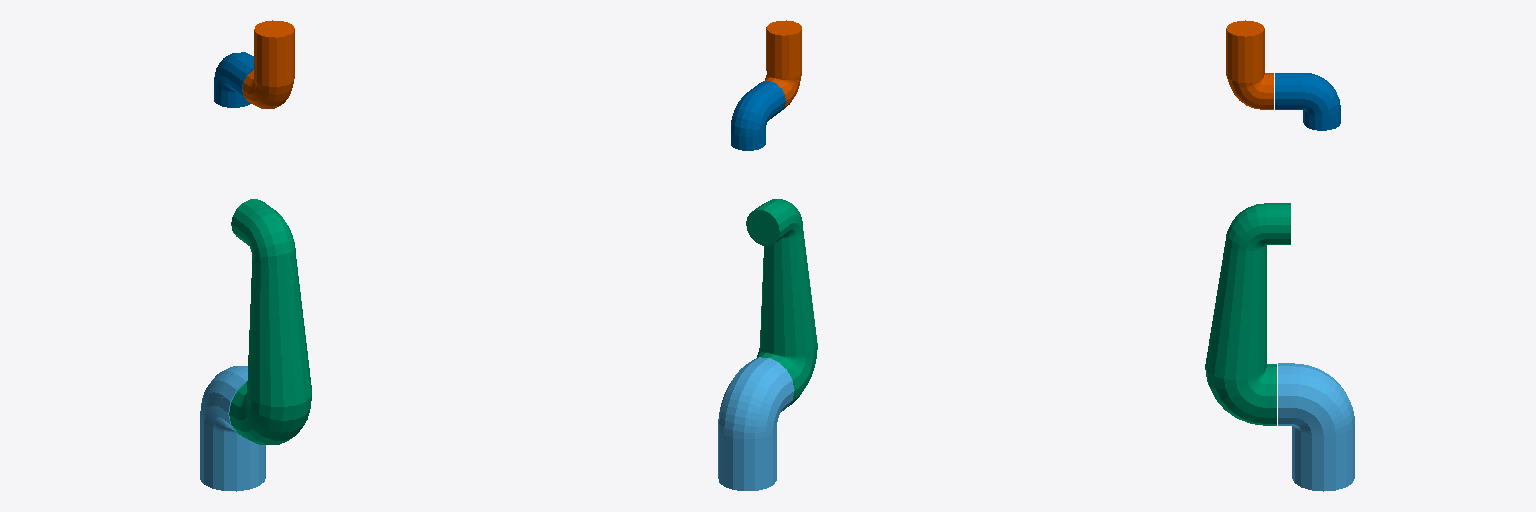
robot.urdf — indy7:
<?xml version="1.0" ?>
<!-- =================================================================================== -->
<!-- |    This document was autogenerated by xacro from indy7.xacro                    | -->
<!-- |    EDITING THIS FILE BY HAND IS NOT RECOMMENDED                                 | -->
<!-- =================================================================================== -->
<robot name="indy7" xmlns:xacro="http://ros.org/wiki/xacro">
  <!-- <material name="grey"> <color rgba="0.5 0.5 0.5 1"/> </material> -->
  <link name="base_link">
    <visual>
      <origin rpy="0 0 0" xyz="0 0 0"/>
      <geometry>
        <mesh filename="meshes/visual/Indy7_0.stl"/>
      </geometry>
      <material name="metal_grey"/>
    </visual>
    <collision>
      <origin rpy="0 0 0" xyz="0 0 0"/>
      <geometry>
        <cylinder length="0.075" radius="0.102"/>
      </geometry>
    </collision>
    <inertial>
      <origin rpy="0 0 0" xyz="0 0 0"/>
      <mass value="1.59306955"/>
      <inertia ixx="+0.00572623" ixy="+0.00000251" ixz="-0.00011380" iyy="+0.00558959" iyz="-0.00000014" izz="+0.00966674"/>
    </inertial>
  </link>
  <link name="shoulder_link">
    <visual>
      <origin rpy="0 0 0" xyz="0 0 0"/>
      <geometry>
        <mesh filename="meshes/visual/Indy7_1.stl"/>
      </geometry>
      <material name="metal_grey"/>
    </visual>
    <collision>
      <origin rpy="0 0 0" xyz="0 0 0.111"/>
      <geometry>
        <cylinder length="0.222" radius="0.075"/>
      </geometry>
    </collision>
    <collision>
      <origin rpy="1.57079632679 0 0" xyz="0 -0.0545 0.222"/>
      <geometry>
        <cylinder length="0.109" radius="0.075"/>
      </geometry>
    </collision>
    <inertial>
      <origin rpy="0 0 0" xyz="0 0 0"/>
      <mass value="11.8030102"/>
      <inertia ixx="+0.15418559" ixy="-0.00000235" ixz="+0.00001739" iyy="+0.12937017" iyz="-0.04854267" izz="+0.05964415"/>
    </inertial>
  </link>
  <link name="upper_arm_link">
    <visual>
      <origin rpy="0 0 0" xyz="0 0 0"/>
      <geometry>
        <mesh filename="meshes/visual/Indy7_2.stl"/>
      </geometry>
      <material name="metal_grey"/>
    </visual>
    <collision>
      <origin rpy="1.57079632679 0 -1.57079632679" xyz="-0.225 0 0.09"/>
      <geometry>
        <cylinder length="0.450" radius="0.063"/>
      </geometry>
    </collision>
    <collision>
      <origin rpy="0 0 0" xyz="0 0 0.045"/>
      <geometry>
        <cylinder length="0.09" radius="0.075"/>
      </geometry>
    </collision>
    <collision>
      <origin rpy="0 0 0" xyz="-0.45 0 0.02975 "/>
      <geometry>
        <cylinder length="0.1205" radius="0.045"/>
      </geometry>
    </collision>
    <inertial>
      <origin rpy="0 0 0" xyz="0 0 0"/>
      <mass value="7.99292141"/>
      <inertia ixx="+0.29356980" ixy="-0.00000040" ixz="+0.00001441" iyy="+0.28094142" iyz="+0.03727972" izz="+0.03620609"/>
    </inertial>
  </link>
  <link name="forearm_link">
    <visual>
      <origin rpy="0 0 0" xyz="0 0 0"/>
      <geometry>
        <mesh filename="meshes/visual/Indy7_3.stl"/>
      </geometry>
      <material name="metal_grey"/>
    </visual>
    <collision>
      <origin rpy="1.57079632679 0 -1.57079632679" xyz="-0.1335 0 -0.075"/>
      <geometry>
        <cylinder length="0.267" radius="0.045"/>
      </geometry>
    </collision>
    <collision>
      <origin rpy="0 0 0" xyz="0 0 -0.0375"/>
      <geometry>
        <cylinder length="0.075" radius="0.045"/>
      </geometry>
    </collision>
    <inertial>
      <origin rpy="0 0 0" xyz="0 0 0"/>
      <mass value="2.99134127"/>
      <inertia ixx="+0.03424593" ixy="+0.00000149" ixz="+0.00000724" iyy="+0.03406024" iyz="+0.00186009" izz="+0.00450477"/>
    </inertial>
  </link>
  <link name="wrist_1_link">
    <visual>
      <origin rpy="0 0 0" xyz="0 0 0"/>
      <geometry>
        <mesh filename="meshes/visual/Indy7_4.stl"/>
      </geometry>
      <material name="metal_grey"/>
    </visual>
    <collision>
      <origin rpy="1.57079632679 0 0" xyz="0 -0.057 0.083"/>
      <geometry>
        <cylinder length="0.114" radius="0.045"/>
      </geometry>
    </collision>
    <collision>
      <origin rpy="1.57079632679 0 0" xyz="0 -0.057 0.083"/>
      <geometry>
        <cylinder length="0.114" radius="0.045"/>
      </geometry>
    </collision>
    <collision>
      <origin rpy="0 0 0" xyz="0 0 0.0415"/>
      <geometry>
        <cylinder length="0.083" radius="0.045"/>
      </geometry>
    </collision>
    <inertial>
      <origin rpy="0 0 0" xyz="0 0 0"/>
      <mass value="2.12317035"/>
      <inertia ixx="+0.00670405" ixy="+0.00000375" ixz="+0.00000150" iyy="+0.00279246" iyz="-0.00127967" izz="+0.00619341"/>
    </inertial>
  </link>
  <link name="wrist_2_link">
    <visual>
      <origin rpy="0 0 0" xyz="0 0 0"/>
      <geometry>
        <mesh filename="meshes/visual/Indy7_5.stl"/>
      </geometry>
      <material name="metal_grey"/>
    </visual>
    <collision>
      <origin rpy="1.57079632679 0 -1.57079632679" xyz="-0.084 0 0.069"/>
      <geometry>
        <cylinder length="0.168" radius="0.045"/>
      </geometry>
    </collision>
    <collision>
      <origin rpy="0 0 0" xyz="-0 0 0.0345"/>
      <geometry>
        <cylinder length="0.069" radius="0.045"/>
      </geometry>
    </collision>
    <inertial>
      <origin rpy="0 0 0" xyz="0 0 0"/>
      <mass value="2.28865091"/>
      <inertia ixx="+0.00994891" ixy="+0.00000014" ixz="+0.00000321" iyy="+0.00978189" iyz="-0.00093546" izz="+0.00271492"/>
    </inertial>
  </link>
  <link name="wrist_3_link">
    <visual>
      <origin rpy="0 0 0" xyz="0 0 0"/>
      <geometry>
        <mesh filename="meshes/visual/Indy7_6.stl"/>
      </geometry>
      <material name="metal_grey"/>
    </visual>
    <collision>
      <origin rpy="0 0 0" xyz="0 0 0.03"/>
      <geometry>
        <cylinder length="0.06" radius="0.045"/>
      </geometry>
    </collision>
    <inertial>
      <origin rpy="0 0 0" xyz="0 0 0"/>
      <mass value="0.40083918"/>
      <inertia ixx="0.00043534" ixy="+0.00000013" ixz="-0.00000002" iyy="0.00044549" iyz="+0.00000051" izz="0.00059634"/>
    </inertial>
  </link>

  <joint name="joint0" type="revolute">
    <parent link="base_link"/>
    <child link="shoulder_link"/>
    <origin rpy="0 0 0" xyz="0 0 0.0775"/>
    <axis xyz="0 0 1"/>
    <limit effort="10" lower="-3.05432619099" upper="3.05432619099" velocity="1"/>
  </joint>
  <joint name="joint1" type="revolute">
    <parent link="shoulder_link"/>
    <child link="upper_arm_link"/>
    <origin rpy="1.57079632679 1.57079632679 0" xyz="0 -0.10900000 0.22200000"/>
    <axis xyz="0 0 1"/>
    <limit effort="10" lower="-3.05432619099" upper="3.05432619099" velocity="1"/>
  </joint>
  <joint name="joint2" type="revolute">
    <parent link="upper_arm_link"/>
    <child link="forearm_link"/>
    <origin rpy="0 0 0" xyz="-0.45000000 +0.00000000 -0.03050000"/>
    <axis xyz="0 0 1"/>
    <limit effort="10" lower="-3.05432619099" upper="3.05432619099" velocity="1"/>
  </joint>
  <joint name="joint3" type="revolute">
    <parent link="forearm_link"/>
    <child link="wrist_1_link"/>
    <origin rpy="-1.57079632679 0 1.57079632679" xyz="-0.26700000 +0.00000000 -0.07500000"/>
    <axis xyz="0 0 1"/>
    <limit effort="10" lower="-3.05432619099" upper="3.05432619099" velocity="1"/>
  </joint>
  <joint name="joint4" type="revolute">
    <parent link="wrist_1_link"/>
    <child link="wrist_2_link"/>
    <origin rpy="1.57079632679 1.57079632679 0" xyz="+0.00000000 -0.11400000 +0.08300000"/>
    <axis xyz="0 0 1"/>
    <limit effort="10" lower="-3.05432619099" upper="3.05432619099" velocity="1"/>
  </joint>
  <joint name="joint5" type="revolute">
    <parent link="wrist_2_link"/>
    <child link="wrist_3_link"/>
    <origin rpy="-1.57079632679 0 1.57079632679" xyz="-0.16800000 +0.00000000 +0.06900000"/>
    <axis xyz="0 0 1"/>
    <limit effort="10" lower="-3.75245789179" upper="3.75245789179" velocity="1"/>
  </joint>
  <link name="world"/>
  <link name="tcp">
    <collision>
      <geometry>
        <box size="0.01 0.01 0.01"/>
      </geometry>
      <origin rpy="0 0 0" xyz="-0.01 0 0"/>
    </collision>
    <inertial>
      <mass value="0"/>
      <origin rpy="0 0 0" xyz="0.0 0.0 0.0"/>
      <inertia ixx="0.0" ixy="0.0" ixz="0.0" iyy="0.0" iyz="0.0" izz="0.0"/>
    </inertial>
  </link>
  <joint name="world_joint" type="fixed">
    <parent link="world"/>
    <child link="base_link"/>
    <origin rpy="0.0 0.0 0.0" xyz="0 0 0"/>
  </joint>
  <joint name="tcp_joint" type="fixed">
    <parent link="wrist_3_link"/>
    <child link="tcp"/>
    <origin rpy="0.0 0.0 0.0" xyz="0 0 0.06"/>
  </joint> 
</robot>

--- Facts derived from the render (not from the file) ---
3 views of the same robot in one strip: view 1: azimuth 30°, elevation 25°; view 2: azimuth 150°, elevation 25°; view 3: azimuth 270°, elevation 25° (orthographic).
Model indy7 with 9 links and 8 joints (6 revolute, 2 fixed), rooted at world, posed every joint at zero.
Links seen in each view (by area): view 1: upper_arm_link, shoulder_link, wrist_2_link, wrist_1_link; view 2: upper_arm_link, shoulder_link, wrist_1_link, wrist_2_link; view 3: upper_arm_link, shoulder_link, wrist_2_link, wrist_1_link.
Boxes of the visible links, left/top/right/bottom form: upper_arm_link: left=229, top=199, right=311, bottom=444; shoulder_link: left=200, top=366, right=265, bottom=491; wrist_2_link: left=242, top=20, right=294, bottom=108; wrist_1_link: left=214, top=52, right=253, bottom=107; upper_arm_link: left=746, top=199, right=817, bottom=406; shoulder_link: left=718, top=357, right=794, bottom=490; wrist_1_link: left=731, top=81, right=785, bottom=150; wrist_2_link: left=763, top=20, right=801, bottom=109; upper_arm_link: left=1205, top=203, right=1290, bottom=425; shoulder_link: left=1278, top=363, right=1354, bottom=491; wrist_2_link: left=1226, top=20, right=1273, bottom=109; wrist_1_link: left=1275, top=73, right=1340, bottom=130.
Size in the robot's own frame: 0.1499 by 0.3585 by 1.19 metres.
Meshes: 7 distinct files referenced, 4 mesh visuals loaded (4 binary STL); not drawn: 3 (reference not matched to a file when rendering).
